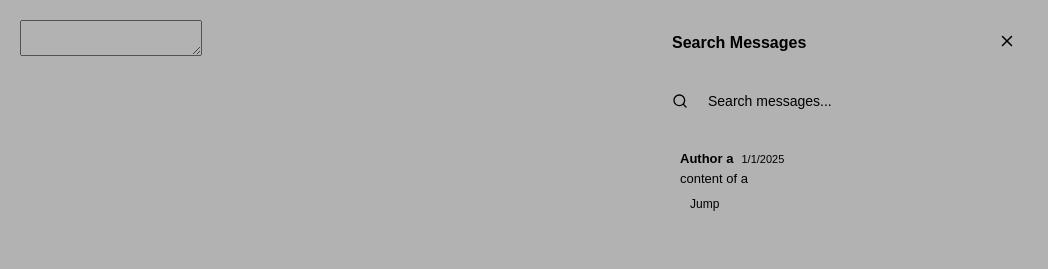
SearchPanel › Jump › F3 failed renders its exact sentence in an alert the button points at, with one status region
Type "hello" into the field with placeholder "Search messages...". click: (858, 101)
box: [696,85,1020,117]
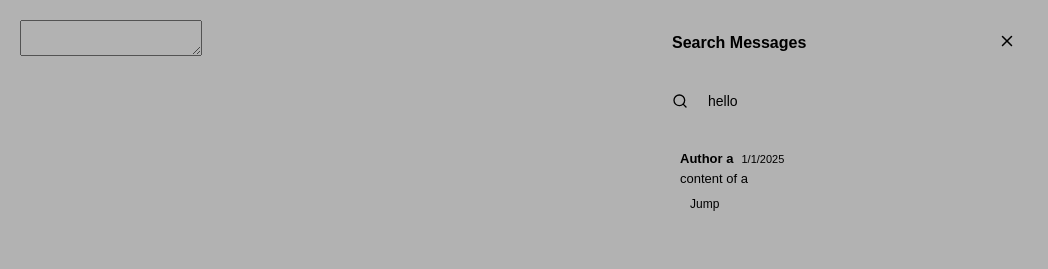
Click the button "Jump". click: (705, 204)
box: [680,194,729,214]
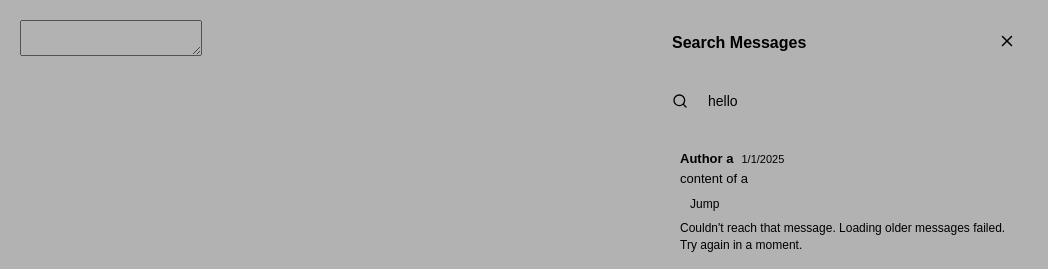
Expected: the message shows "Couldn't reach that message. Loading older messages failed. Try again in a moment.", [680,221,1005,252]
